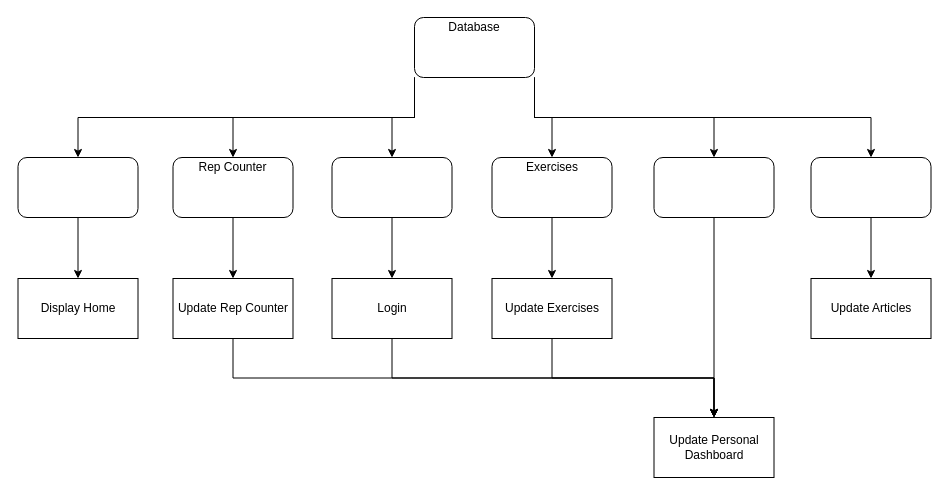
This 948x495 diagram has some shape labels left out. Here are the shapes that lost their labels. From the top down, the box of each, then its label:
(17, 156, 138, 218): Home
(331, 156, 452, 218): Google Login
(653, 156, 774, 218): Dashboard
(810, 156, 931, 218): Articles
